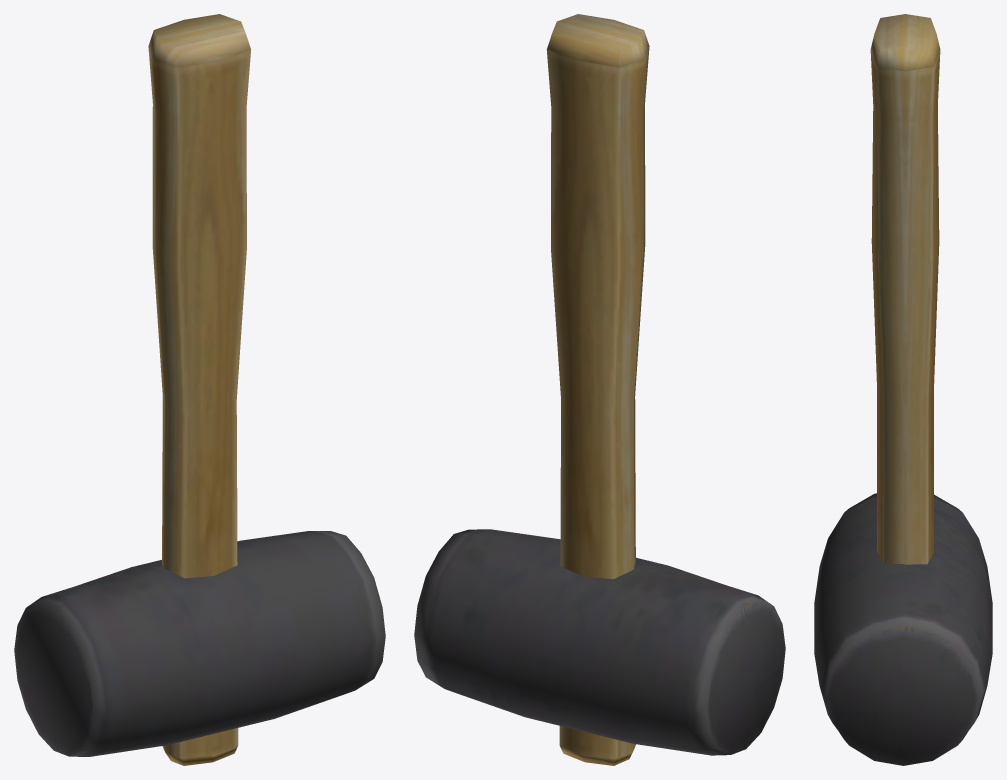
File: ToolHammer.glb
3 views of the same model, side by side, from view 1: azimuth 30°, elevation 25°; view 2: azimuth 150°, elevation 25°; view 3: azimuth 270°, elevation 25° (orthographic). The views are drawn at different scales.
Visible parts, largest first — view 1: pCube1__mTool; view 2: pCube1__mTool; view 3: pCube1__mTool.
Part boxes in pixels (bbox=[...]): pCube1__mTool: bbox=[14, 14, 385, 765]; pCube1__mTool: bbox=[414, 14, 785, 765]; pCube1__mTool: bbox=[814, 14, 992, 765].
Bounding box in the file's own units: 1.89 × 4.45 × 1.02.
Materials: 1 (1 with a texture image).
